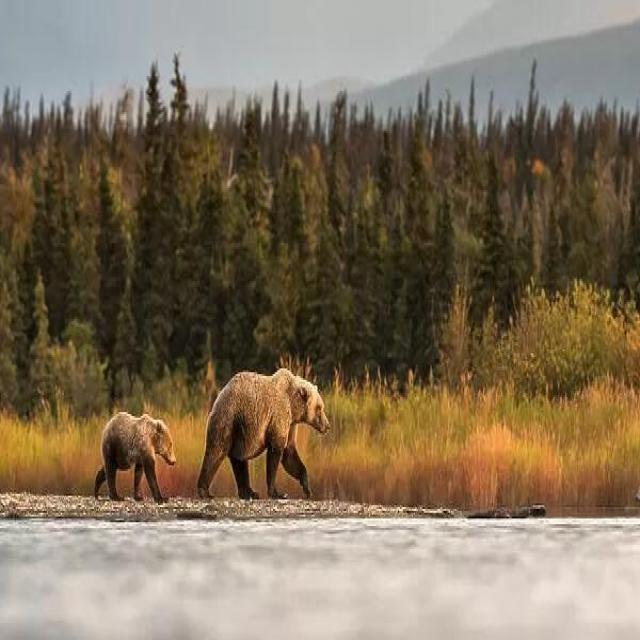Bear: (196, 368, 332, 501), (100, 412, 176, 503)
